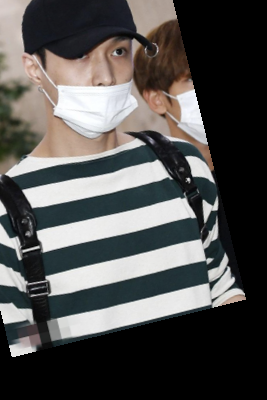mask_weared_incorrect: (9, 1, 177, 139)
